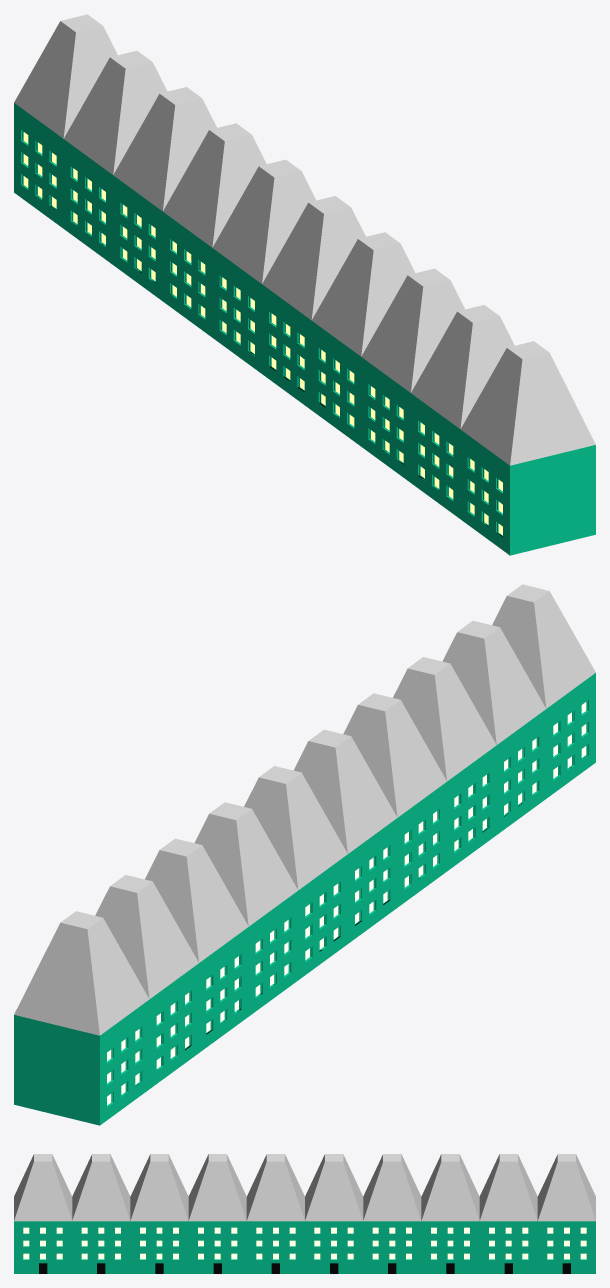
File: 3_storey_house_2(big).fbx
3 views of the same model, one above another, from view 1: azimuth 30°, elevation 25°; view 2: azimuth 150°, elevation 25°; view 3: azimuth 270°, elevation 25° (orthographic). The views are drawn at different scales.
Parts seen in each view (by area): view 1: Cube; view 2: Cube; view 3: Cube.
Boxes of the visible parts, <box> form: Cube: <box>14,14,595,555</box>; Cube: <box>14,584,595,1125</box>; Cube: <box>14,1154,595,1273</box>.
Size of the model in its own units: 28 by 55.07 by 280.
